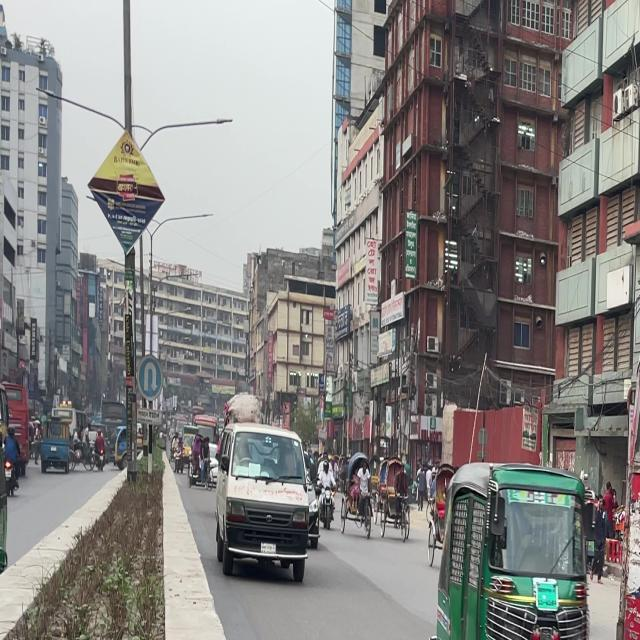car: (212, 414, 334, 589)
rickshaw: (409, 419, 594, 640)
